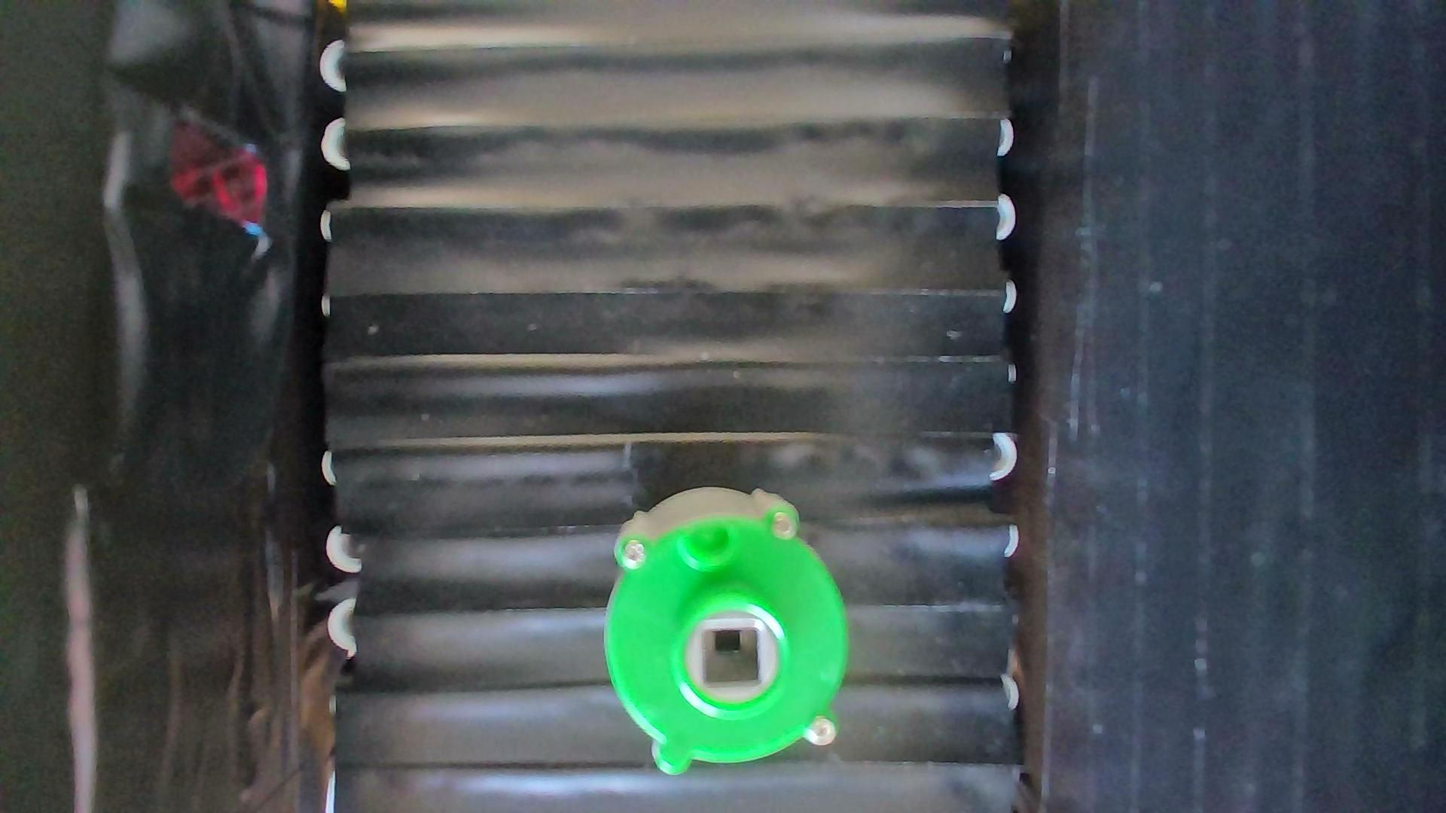cartridge: (602, 486, 852, 776)
